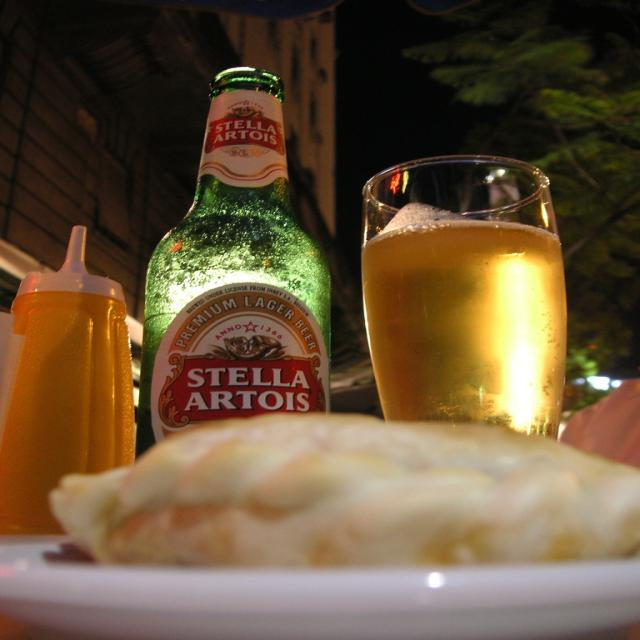stellaartois: (163, 293, 328, 436), (204, 98, 289, 157)
